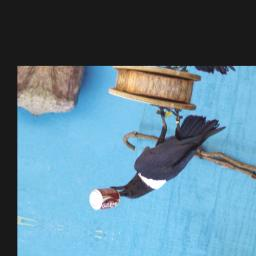Crow: (107, 98, 229, 215)
